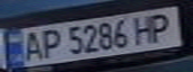2: (81, 20, 100, 54)
5: (63, 24, 84, 56)
6: (112, 16, 136, 48)
8: (97, 19, 118, 52)
A: (18, 29, 48, 62)
H: (127, 12, 160, 45)
P: (145, 10, 181, 43), (36, 26, 63, 60)
